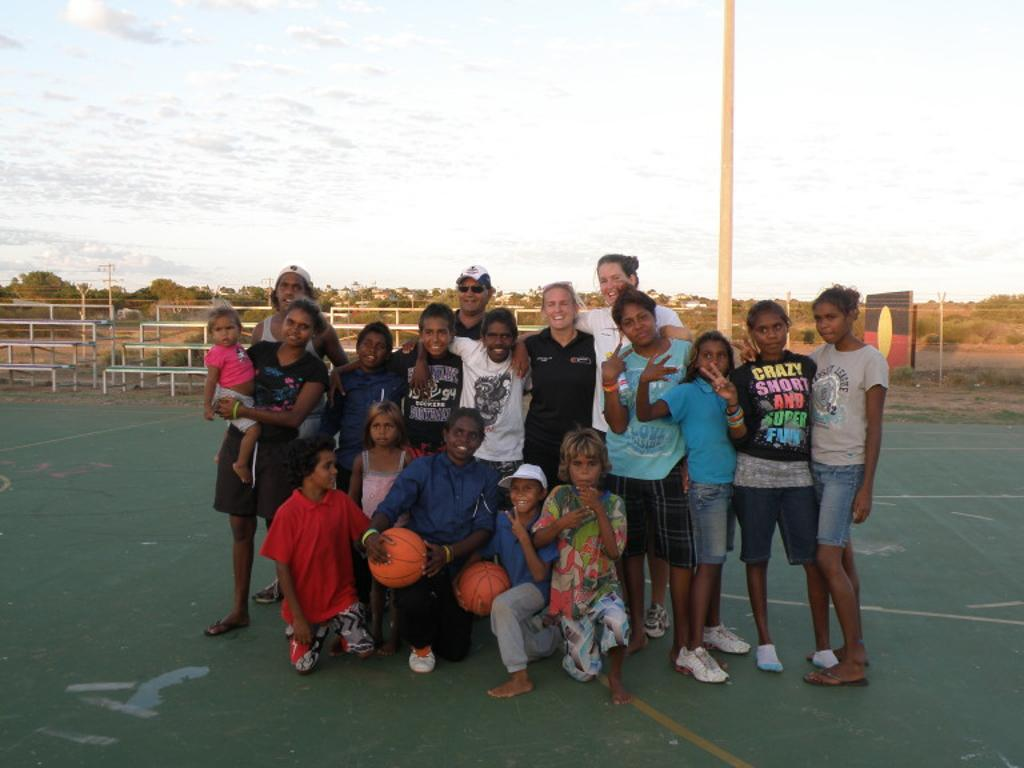face: (815, 305, 850, 344), (600, 266, 634, 306), (622, 307, 656, 346), (448, 421, 481, 460), (571, 452, 602, 490), (754, 317, 786, 353), (698, 344, 729, 381), (283, 311, 315, 346), (277, 275, 309, 310), (511, 475, 541, 512), (545, 294, 574, 329), (359, 335, 389, 368), (460, 279, 489, 313), (423, 321, 451, 356), (311, 454, 339, 489), (486, 327, 513, 363), (212, 319, 241, 347), (371, 416, 398, 445)
